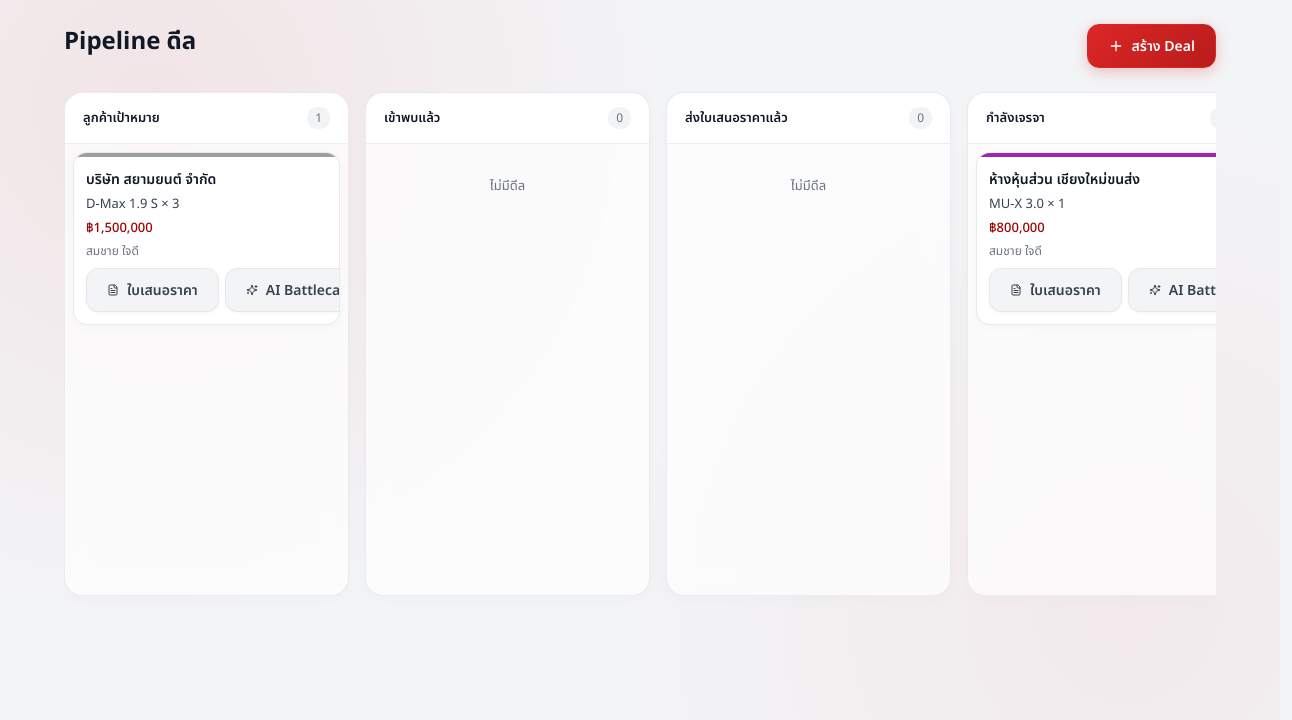
Deals Kanban › Modal form › closes modal when cancel is clicked
The width and height of the screenshot is (1292, 720).
Expected: the heading "Pipeline ดีล" is shown, top-left (64, 24), bottom-right (196, 60)
Step 1. Click the button "สร้าง Deal" → (1151, 46), box top-left (1086, 24), bottom-right (1216, 68)
(page scrolled)
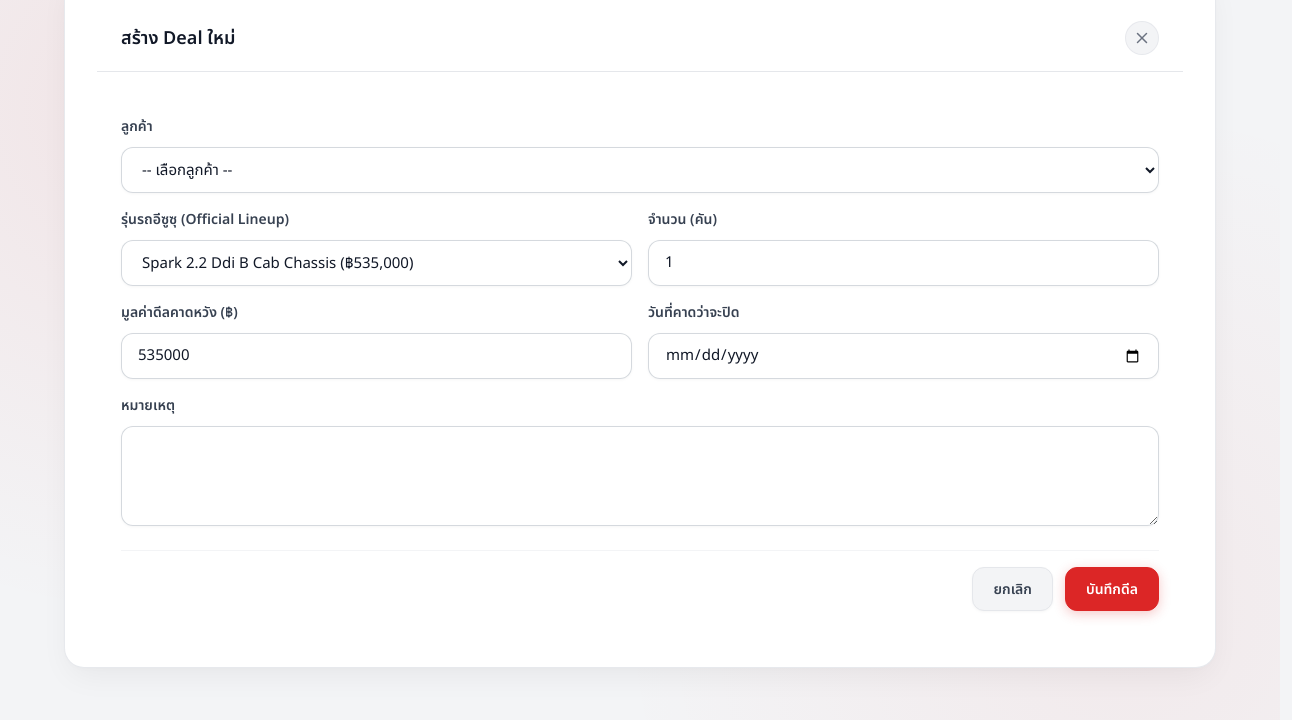
Result: the heading "สร้าง Deal ใหม่" is shown at top-left (121, 24), bottom-right (235, 52)
Step 2. Click the button "ยกเลิก" → (1013, 589), box top-left (972, 567), bottom-right (1053, 611)
(page scrolled)
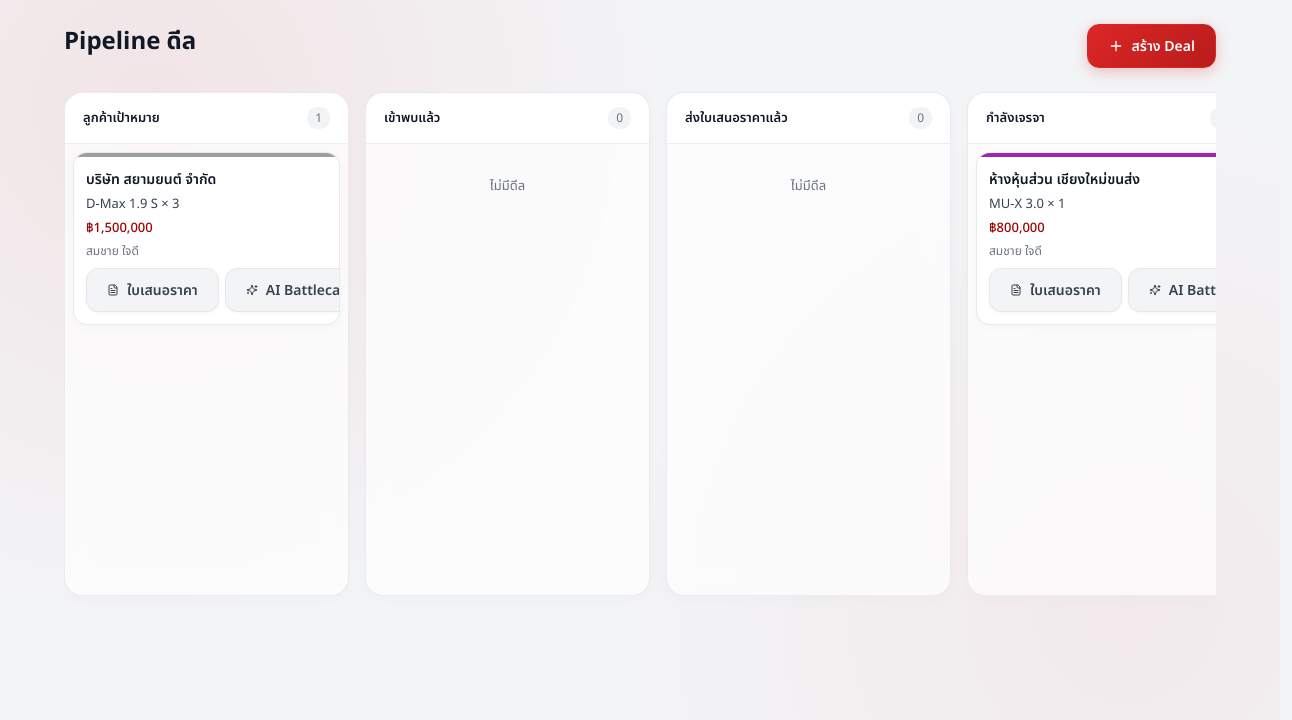
Result: the heading "สร้าง Deal ใหม่" is gone
